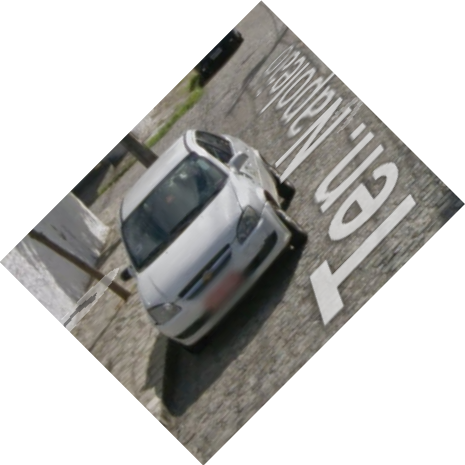car: (116, 127, 310, 357)
